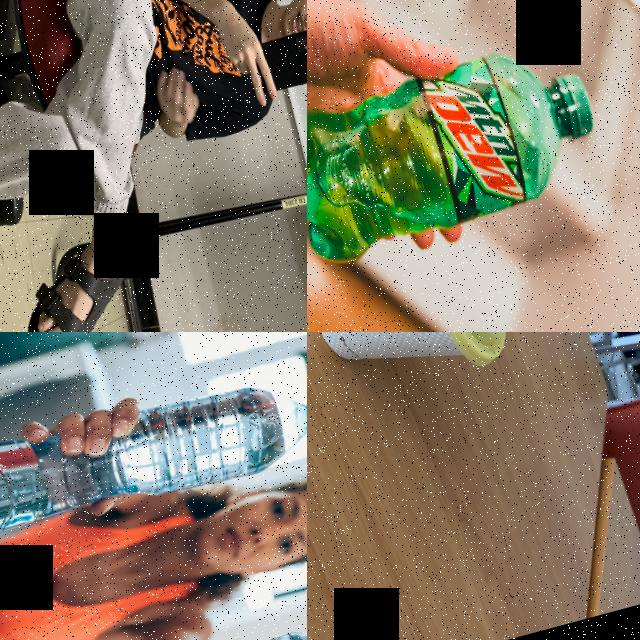bottle: (307, 29, 608, 268), (0, 349, 307, 577)
cup: (307, 332, 531, 410)
